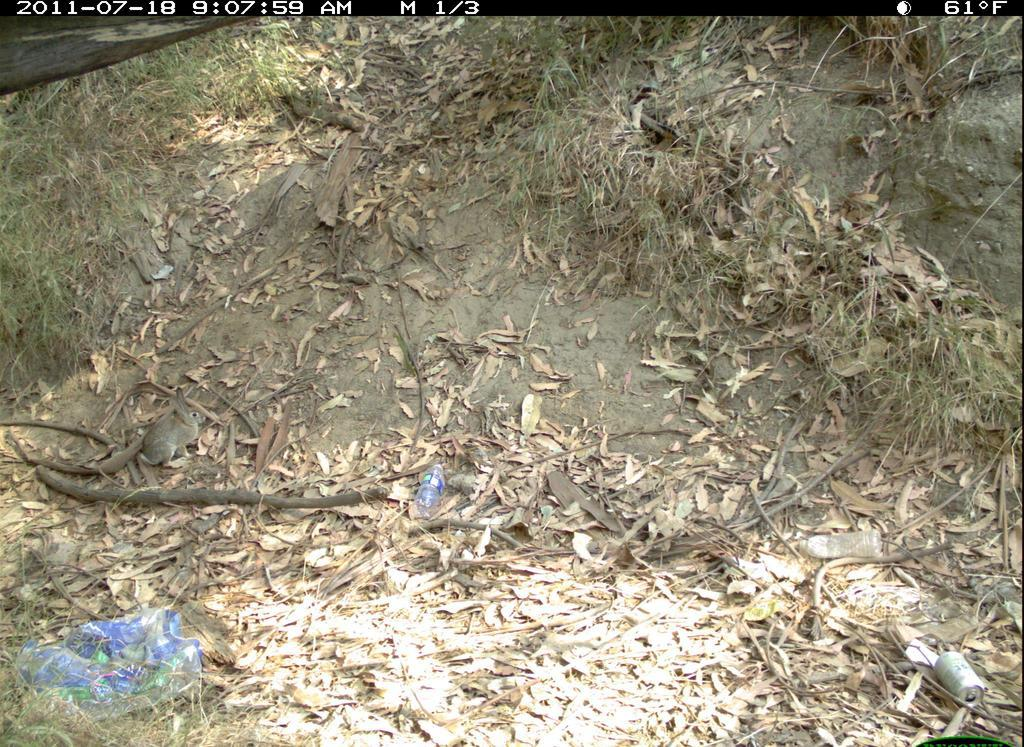rabbit: (126, 382, 213, 474)
